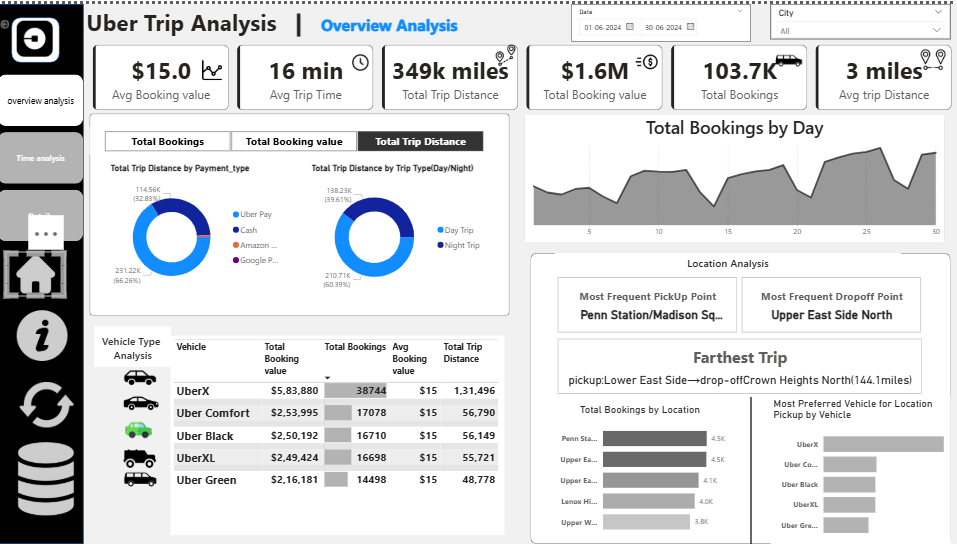

The page's visual inventory and layout, read from the dashboard file:
{"tool":"powerbi","page":{"name":"overview analysis","canvas":[1600,900],"ordinal":0},"visuals":[{"type":"shape","box":[0,0,142.5,900],"z":0},{"type":"textbox","box":[142.4,0,978.8,63.6],"z":1000},{"type":"cardVisual","fields":{"Data":["Trip Details.Avg Booking Amount","Trip Details.Avg Trip Time","Trip Details.Total Trip Distance","Trip Details.Total Booking Amount","Trip Details.Total Bookings","Trip Details.Avg trip Distance"]},"box":[153,63.6,1447,119.7],"z":2000},{"type":"image","box":[1057.6,66.7,47,57.6],"z":3000},{"type":"image","box":[818.2,63.6,59.1,45.5],"z":4000},{"type":"image","box":[584.8,51.5,37.9,89.4],"z":5000},{"type":"image","box":[333.3,78.8,48.5,60.6],"z":6000},{"type":"shape","box":[152.2,182.6,700,337],"z":7000},{"type":"image","box":[1287.9,65.2,60.6,59.1],"z":8000},{"type":"image","box":[1533.3,59.1,51.5,65.2],"z":9000},{"type":"slicer","fields":{"Values":["Dynamic Measures.Dynamic Measures"]},"box":[153,204.5,680.3,47],"z":10000},{"type":"donutChart","fields":{"Y":["Trip Details.Total Trip Distance Measure"],"Category":["Trip Details.Payment_type"]},"box":[182.6,265.2,300,230.4],"z":11000},{"type":"donutChart","fields":{"Y":["Trip Details.Total Trip Distance Measure"],"Category":["Trip Details.Trip Type(Day/Night)"]},"box":[518.4,265.3,300,230.6],"z":12000},{"type":"pivotTable","fields":{"Rows":["Trip Details.Vehicle"],"Values":["Trip Details.Total Booking value","Trip Details.Total Bookings","Trip Details.Avg Booking value","Trip Details.Total Trip Distance Measure"]},"box":[287,552.2,556.5,332.6],"z":14000},{"type":"actionButton","box":[0,0,22.5,67.5],"z":15000},{"type":"image","box":[195.2,589.8,83.7,65.3],"z":16000},{"type":"image","box":[202,681.6,63.3,55.1],"z":17000},{"type":"image","box":[200.3,757.1,73.5,69.4],"z":18000},{"type":"image","box":[189.8,626.5,98,75.5],"z":19000},{"type":"image","box":[186.1,724.5,102,65.3],"z":20000},{"type":"card","fields":{"Values":["Trip Details.Title For Grid"]},"box":[159.2,536.7,128.6,67.3],"z":21000},{"type":"shape","box":[877.6,185.7,700,212.2],"z":22000},{"type":"areaChart","fields":{"Category":["Calendar Table.Date.Variation.Date Hierarchy.Day"],"Y":["Trip Details.Total Bookings"]},"box":[877.6,185.7,700,212.2],"z":23000},{"type":"shape","box":[887,415.2,700,484.8],"z":24000},{"type":"cardVisual","fields":{"Data":["Trip Details.Most Frequent PickUp Point","Trip Details.Most Frequent Dropoff Point"]},"box":[928.3,450,617.4,102.2],"z":25000},{"type":"cardVisual","fields":{"Data":["Trip Details.Farthest Distance"]},"box":[927.5,552.5,617.5,102.5],"z":26000},{"type":"barChart","fields":{"Y":["Trip Details.Total Bookings"],"Category":["Location Table.Location"]},"box":[919.6,665.2,300,230.4],"z":27000},{"type":"barChart","fields":{"Category":["Trip Details.Vehicle"],"Y":["CountNonNull(Trip Details.PULocationID)"]},"box":[1287,654.3,300,245.7],"z":28000},{"type":"shape","box":[1105,655,300,245],"z":29000},{"type":"card","fields":{"Values":["Trip Details.Title For location"]},"box":[927.5,415,577.5,35],"z":30000},{"type":"slicer","fields":{"Values":["Calendar Table.Date"]},"box":[954.3,0,300,63],"z":31000},{"type":"slicer","fields":{"Values":["Location Table.City"]},"box":[1287,0,300,58.7],"z":32000},{"type":"shape","box":[22.5,22.5,80,75],"z":33000},{"type":"image","box":[22.5,22.5,77.5,70],"z":34000},{"type":"pageNavigator","box":[0,117.5,142.5,280],"z":35000},{"type":"image","box":[12.5,412.5,100,75],"z":35001},{"type":"image","box":[2.5,505,142.5,95],"z":35002},{"type":"image","box":[10,617.5,142.5,100],"z":35003},{"type":"image","box":[7.5,725,145,132.5],"z":35004}]}

Visuals, with their boxes on the page's 1600x900 design canvas (x1, y1, x2, y2). These are canvas units, not pixel positions in the 957x544 screenshot, which may show the page scaled, cropped or inside an application window:
shape: locate(0, 0, 142, 900)
textbox: locate(142, 0, 1121, 64)
cardVisual - Trip Details.Avg Booking Amount x Trip Details.Avg Trip Time: locate(153, 64, 1600, 183)
image: locate(1058, 67, 1105, 124)
image: locate(818, 64, 877, 109)
image: locate(585, 52, 623, 141)
image: locate(333, 79, 382, 139)
shape: locate(152, 183, 852, 520)
image: locate(1288, 65, 1348, 124)
image: locate(1533, 59, 1585, 124)
slicer - Dynamic Measures.Dynamic Measures: locate(153, 204, 833, 252)
donutChart - Trip Details.Total Trip Distance Measure x Trip Details.Payment_type: locate(183, 265, 483, 496)
donutChart - Trip Details.Total Trip Distance Measure x Trip Details.Trip Type(Day/Night): locate(518, 265, 818, 496)
pivotTable - Trip Details.Vehicle x Trip Details.Total Booking value: locate(287, 552, 844, 885)
actionButton: locate(0, 0, 22, 68)
image: locate(195, 590, 279, 655)
image: locate(202, 682, 265, 737)
image: locate(200, 757, 274, 826)
image: locate(190, 626, 288, 702)
image: locate(186, 724, 288, 790)
card - Trip Details.Title For Grid: locate(159, 537, 288, 604)
shape: locate(878, 186, 1578, 398)
areaChart - Calendar Table.Date.Variation.Date Hierarchy.Day x Trip Details.Total Bookings: locate(878, 186, 1578, 398)
shape: locate(887, 415, 1587, 900)
cardVisual - Trip Details.Most Frequent PickUp Point x Trip Details.Most Frequent Dropoff Point: locate(928, 450, 1546, 552)
cardVisual - Trip Details.Farthest Distance: locate(928, 552, 1545, 655)
barChart - Trip Details.Total Bookings x Location Table.Location: locate(920, 665, 1220, 896)
barChart - Trip Details.Vehicle x CountNonNull(Trip Details.PULocationID): locate(1287, 654, 1587, 900)
shape: locate(1105, 655, 1405, 900)
card - Trip Details.Title For location: locate(928, 415, 1505, 450)
slicer - Calendar Table.Date: locate(954, 0, 1254, 63)
slicer - Location Table.City: locate(1287, 0, 1587, 59)
shape: locate(22, 22, 102, 98)
image: locate(22, 22, 100, 92)
pageNavigator: locate(0, 118, 142, 398)
image: locate(12, 412, 112, 488)
image: locate(2, 505, 145, 600)
image: locate(10, 618, 152, 718)
image: locate(8, 725, 152, 858)
